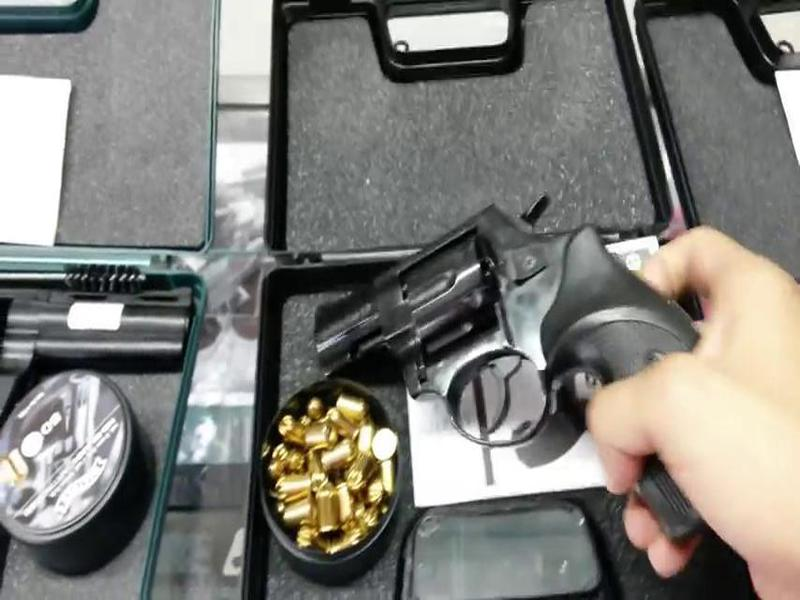Revolver: (272, 192, 690, 503)
